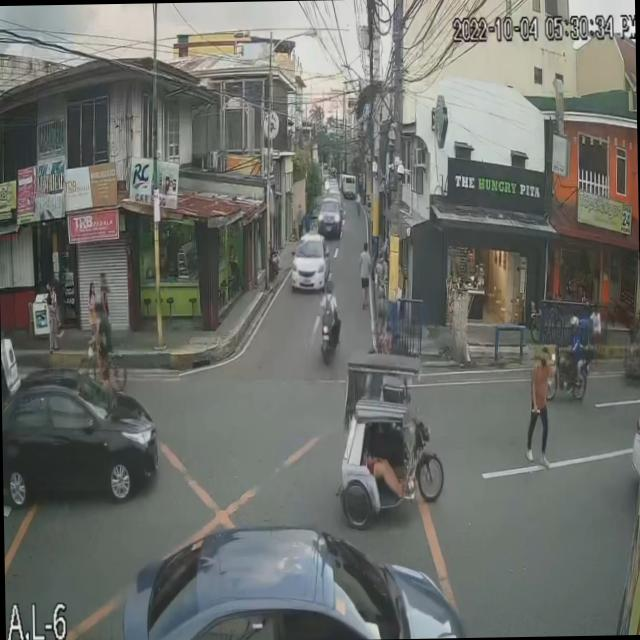full: (570, 314, 580, 339)
